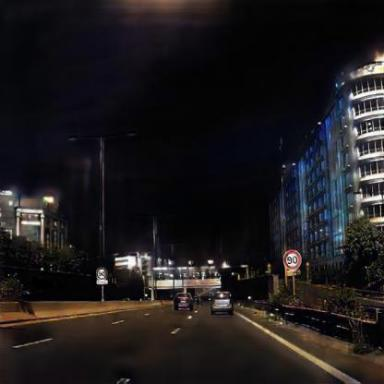Speed_limit_90: (283, 250, 301, 269)
